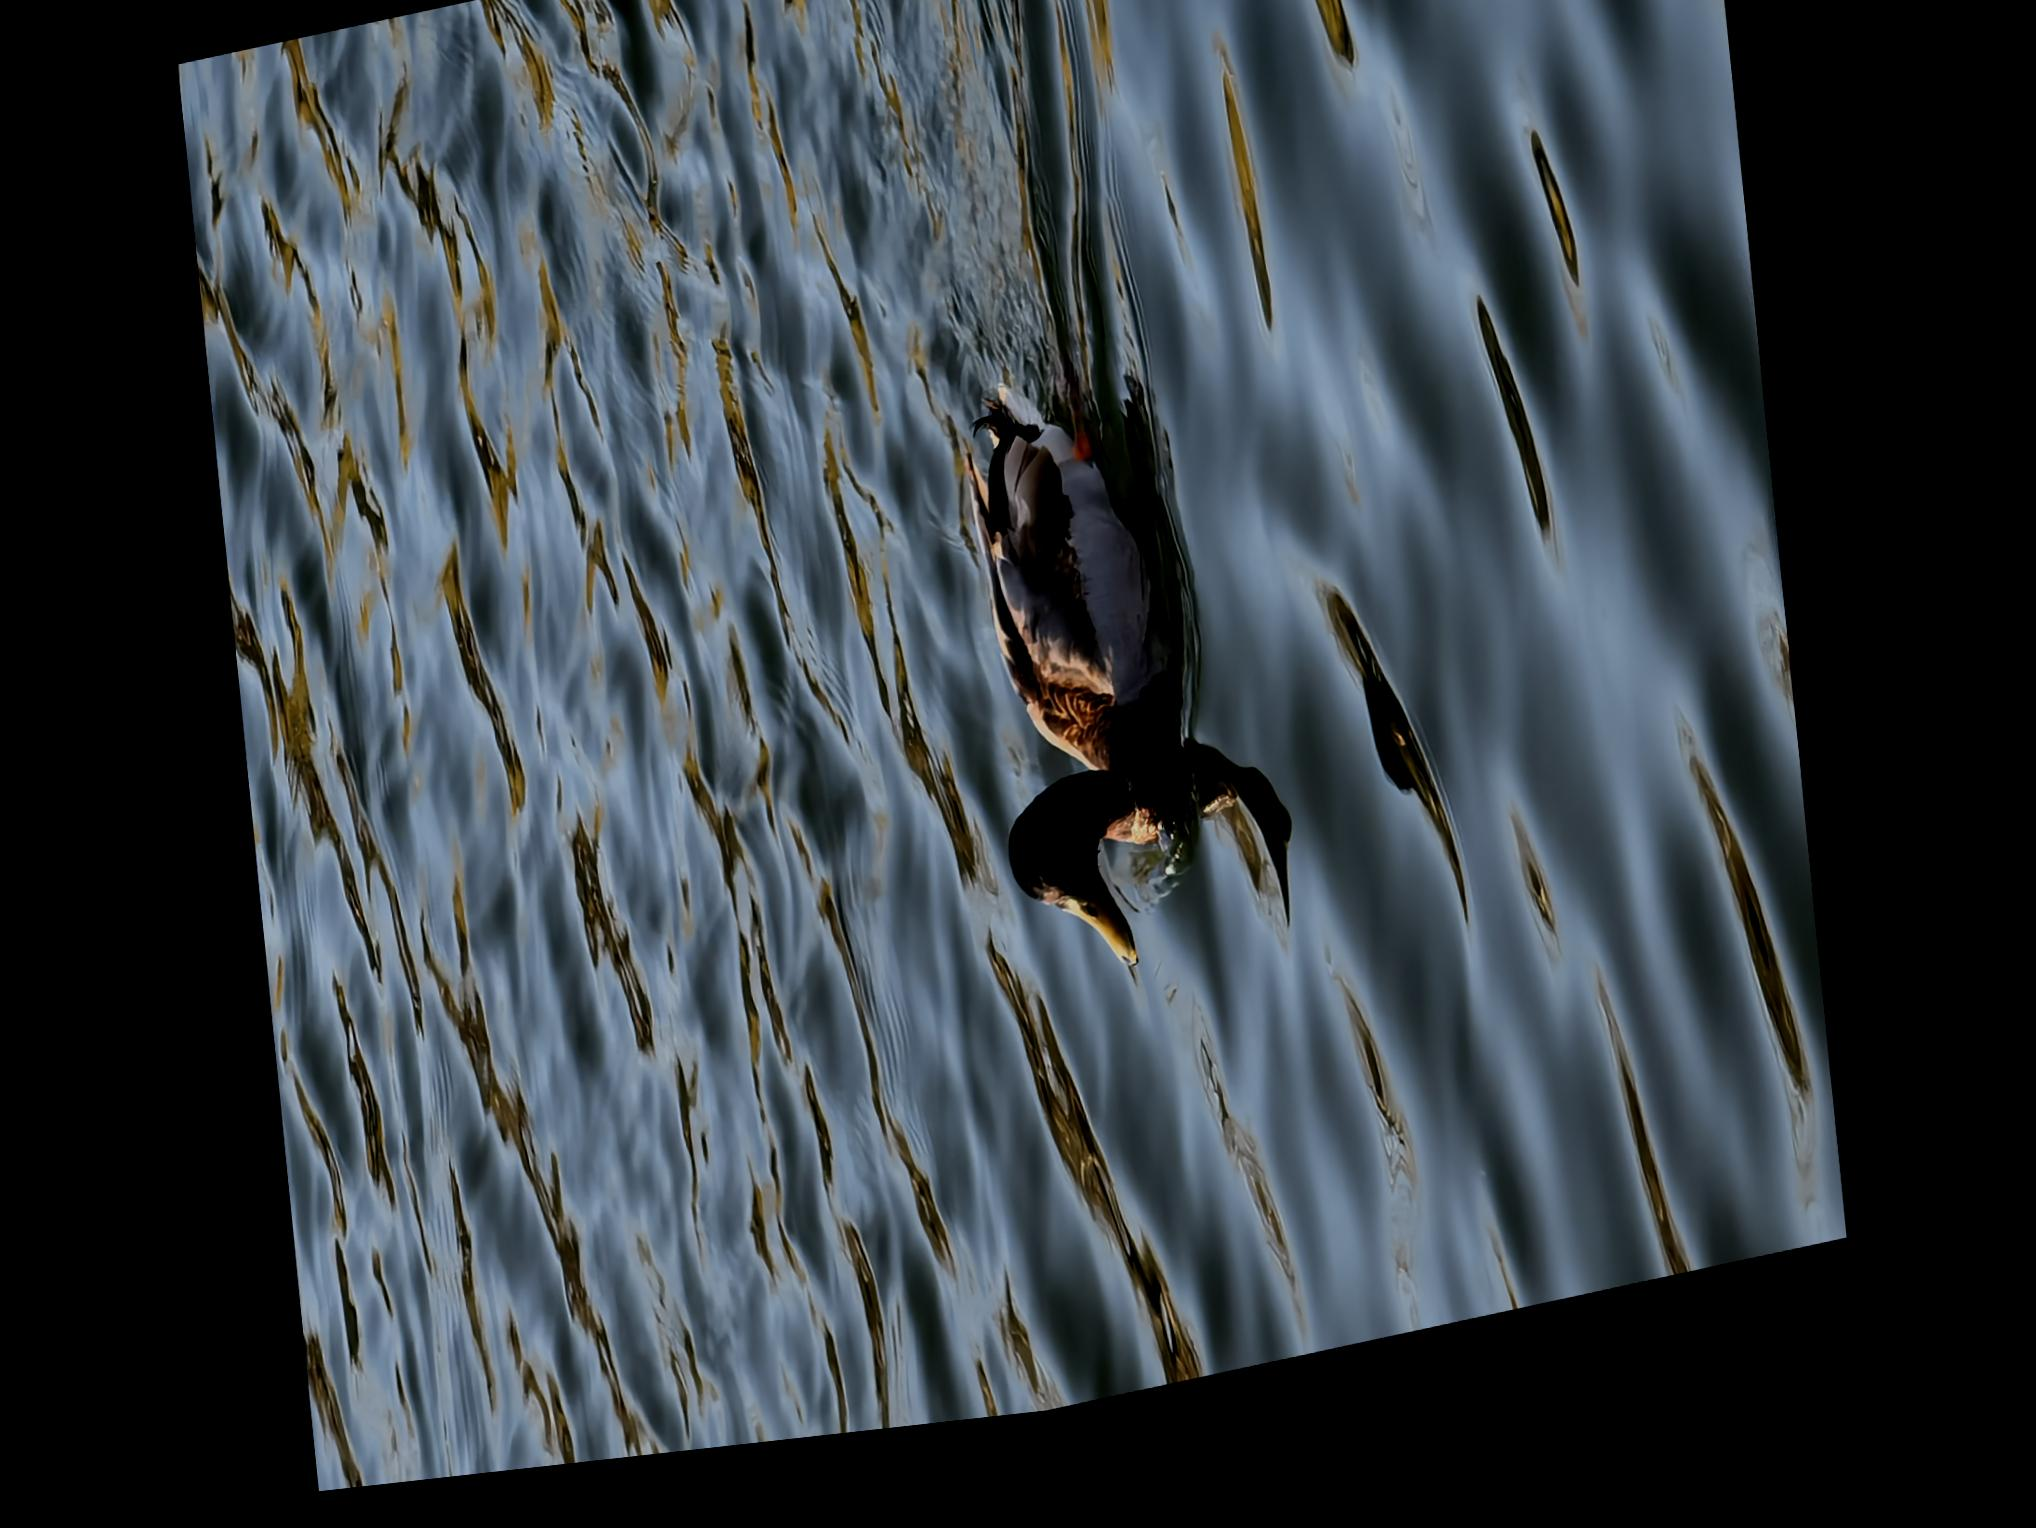duck: (953, 384, 1198, 1011)
